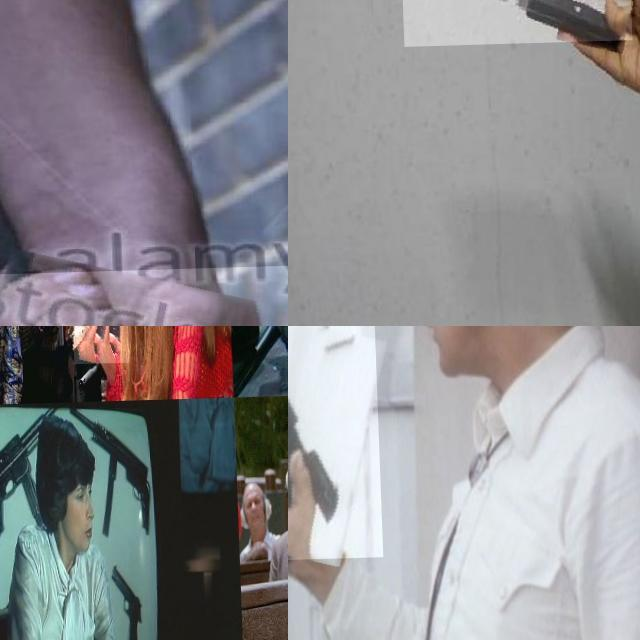-: (400, 0, 630, 48)
gun-knife-thesis - v11 Yolov5 augmented: (288, 326, 382, 562), (62, 404, 146, 542), (0, 402, 63, 544), (67, 326, 127, 411), (30, 326, 80, 392), (101, 560, 139, 640)
